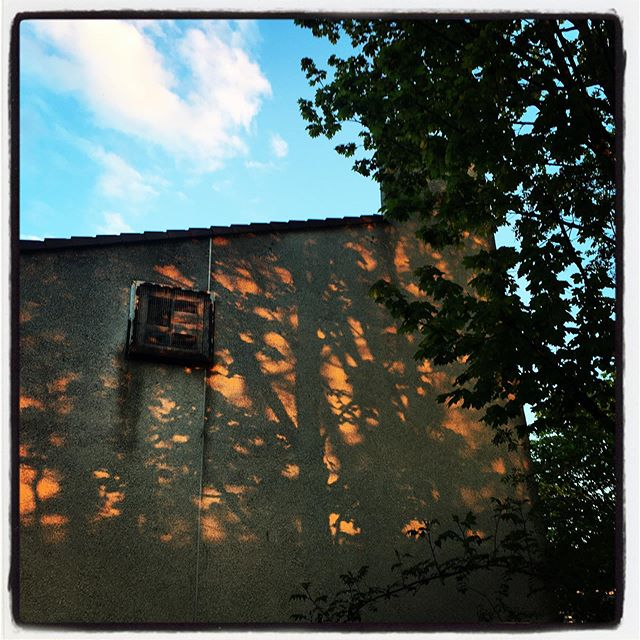building: (1, 216, 495, 640)
sky: (24, 1, 522, 223)
tree: (311, 24, 640, 640)
